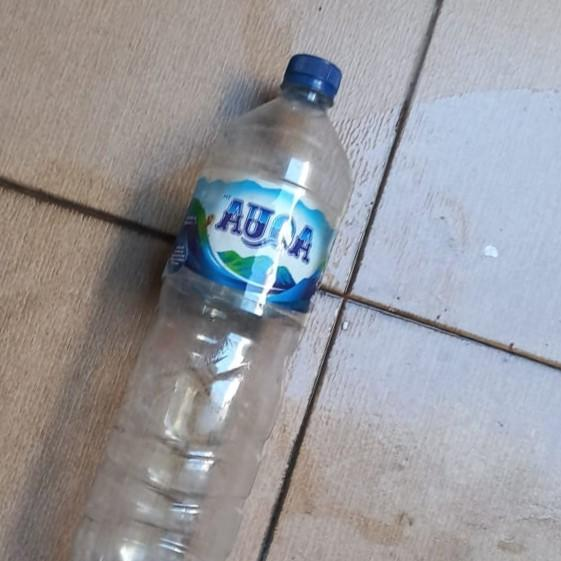Plastik: (71, 51, 356, 561)
